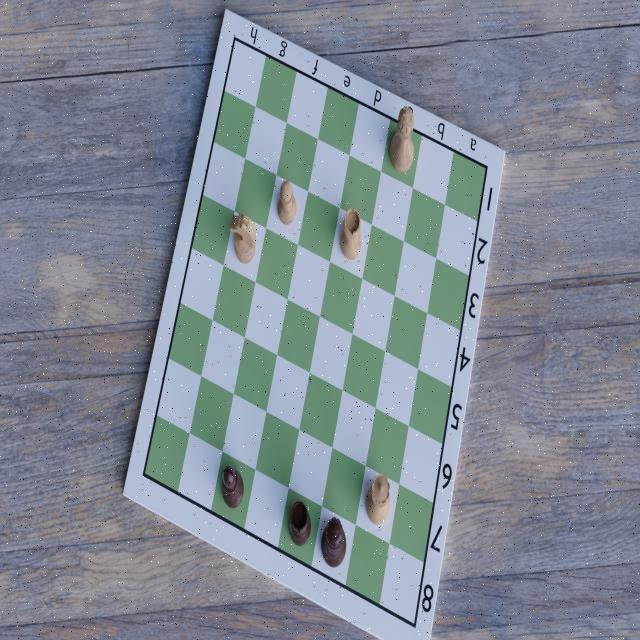black-bishop: (220, 463, 246, 510)
black-queen: (320, 516, 348, 568)
black-rook: (286, 498, 312, 545)
white-king: (389, 103, 416, 176)
white-knight: (230, 211, 258, 268)
white-pawn: (276, 178, 299, 228)
white-queen: (364, 471, 392, 529)
white-rook: (339, 205, 365, 265)
